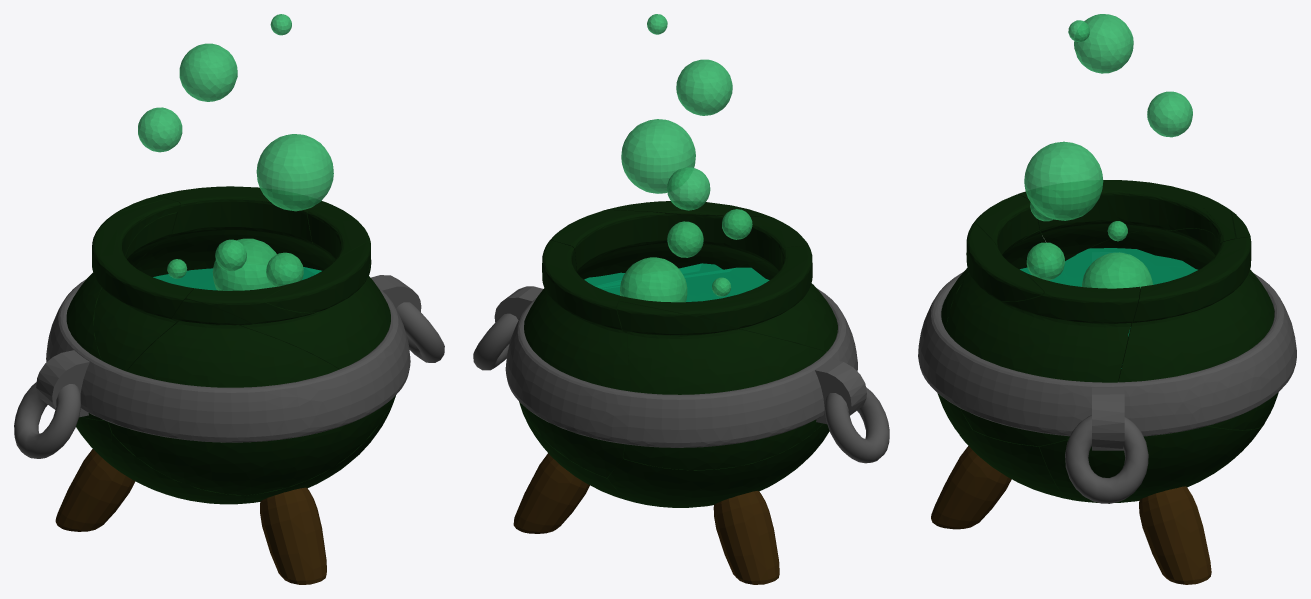
Rendered from cauldron_full_bubbles.fbx.
3 renders of one model, left to right at view 1: azimuth 30°, elevation 25°; view 2: azimuth 150°, elevation 25°; view 3: azimuth 270°, elevation 25°, orthographic. The views are drawn at different scales.
Parts seen in each view (by area): view 1: cauldron_bubbles_full; view 2: cauldron_bubbles_full; view 3: cauldron_bubbles_full.
Part boxes in pixels (x1=…): cauldron_bubbles_full: x1=14, y1=14, x2=444, y2=584; cauldron_bubbles_full: x1=473, y1=14, x2=889, y2=584; cauldron_bubbles_full: x1=918, y1=14, x2=1296, y2=584.
Bounding box in the file's own units: 131 × 153 × 101.
